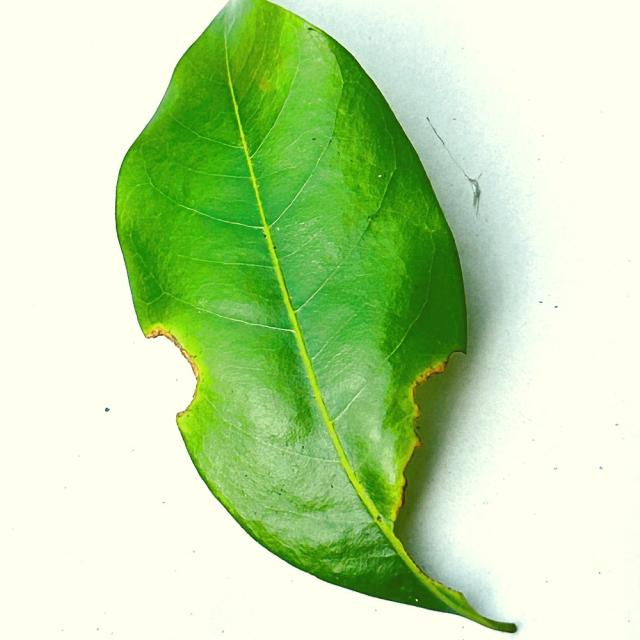Deficiency Leaf: (397, 325, 508, 614), (125, 316, 198, 416)
Lychee: (113, 0, 516, 635)
